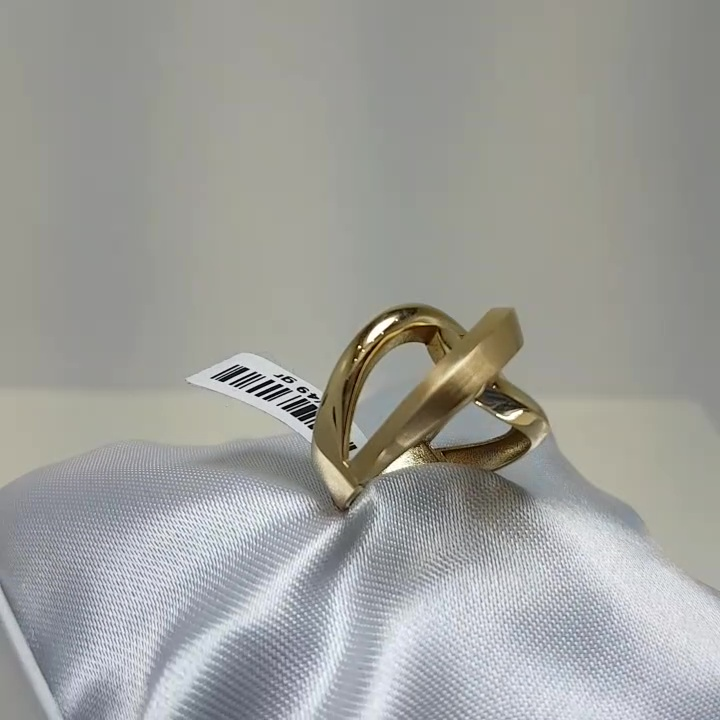Ring 3: (279, 261, 588, 542)
